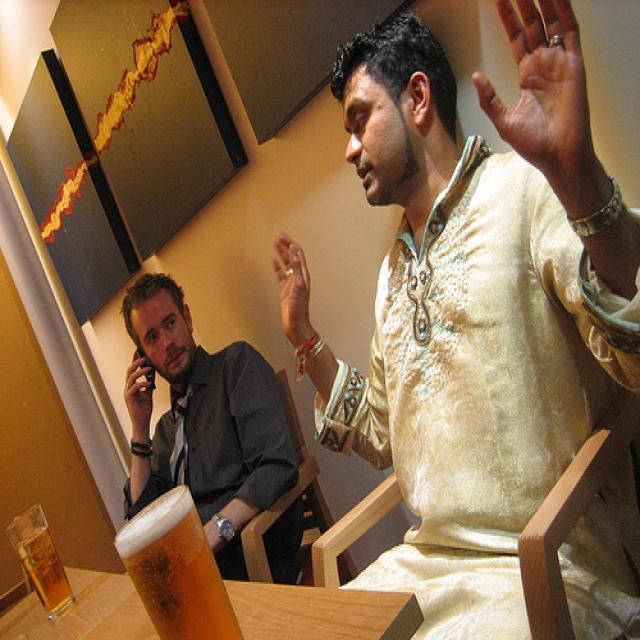chair: (313, 390, 640, 633), (237, 365, 338, 584)
dining table: (0, 488, 427, 633)
